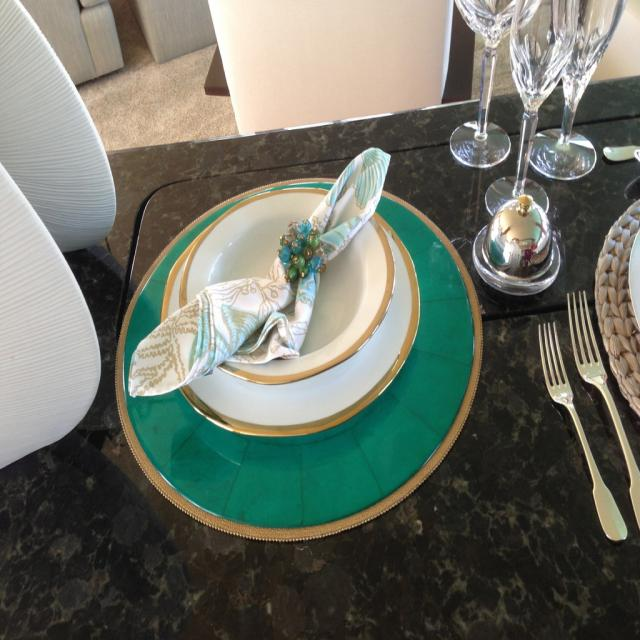non-organic waste: (102, 173, 499, 552)
